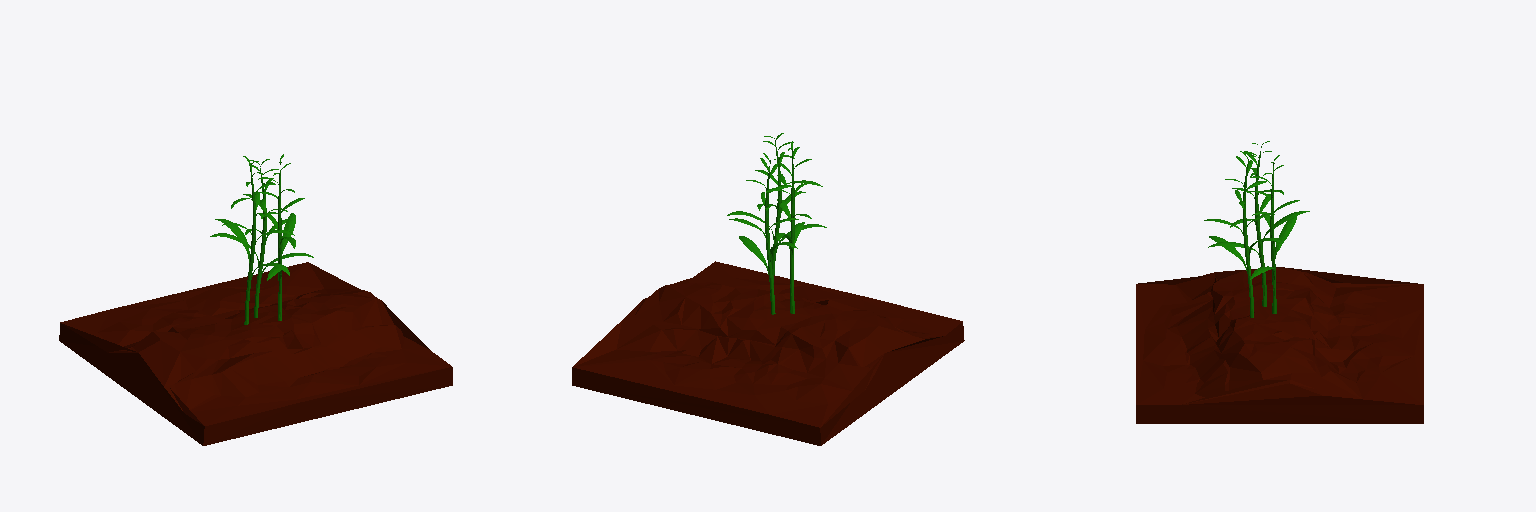
Rendered from bedeng_kangkung_2.obj.
3 renders of one model, left to right at view 1: azimuth 30°, elevation 25°; view 2: azimuth 150°, elevation 25°; view 3: azimuth 270°, elevation 25°, orthographic.
Visible parts, largest first — view 1: PP_Meadow_Path_05_Scene.1042, NurbsPath.009_NurbsPath.001, NurbsPath.009_NurbsPath.002, NurbsPath.009_NurbsPath.017; view 2: PP_Meadow_Path_05_Scene.1042, NurbsPath.009_NurbsPath.017, NurbsPath.009_NurbsPath.001, NurbsPath.009_NurbsPath.002; view 3: PP_Meadow_Path_05_Scene.1042, NurbsPath.009_NurbsPath.002, NurbsPath.009_NurbsPath.017, NurbsPath.009_NurbsPath.001.
Part boxes in pixels (x1,y1,x2,y2): PP_Meadow_Path_05_Scene.1042: (59,262,452,445); NurbsPath.009_NurbsPath.001: (215,156,294,324); NurbsPath.009_NurbsPath.002: (250,154,304,320); NurbsPath.009_NurbsPath.017: (210,159,313,317); PP_Meadow_Path_05_Scene.1042: (572,261,964,445); NurbsPath.009_NurbsPath.017: (729,153,798,314); NurbsPath.009_NurbsPath.001: (766,141,822,313); NurbsPath.009_NurbsPath.002: (727,133,826,300); PP_Meadow_Path_05_Scene.1042: (1136,267,1423,423); NurbsPath.009_NurbsPath.002: (1204,151,1283,317); NurbsPath.009_NurbsPath.017: (1247,155,1299,313); NurbsPath.009_NurbsPath.001: (1208,141,1309,306).
Bounding box in the file's own units: 1 × 0.8222 × 1.